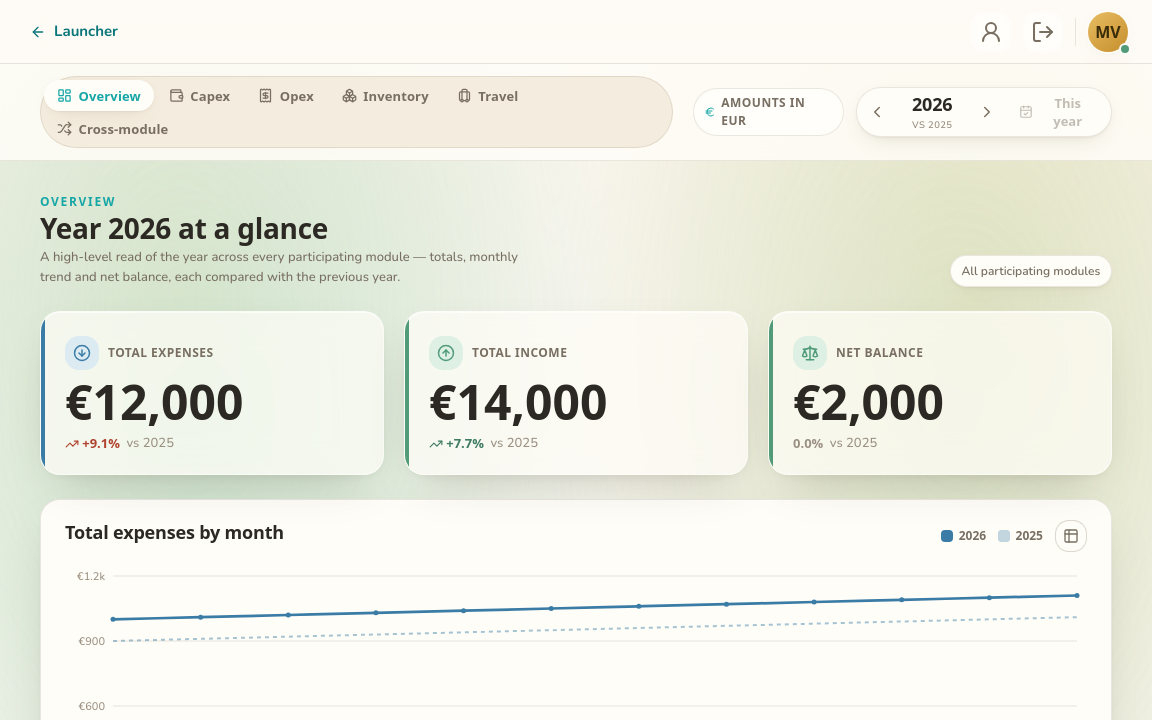
Test: Analytics shell › navigates years through the URL and refetches
This screenshot has width=1152, height=720.
Expected: the button "This year" is disabled, [1008,95,1108,129]
Click the button named "Previous year": (877, 112) [860,95,894,129]
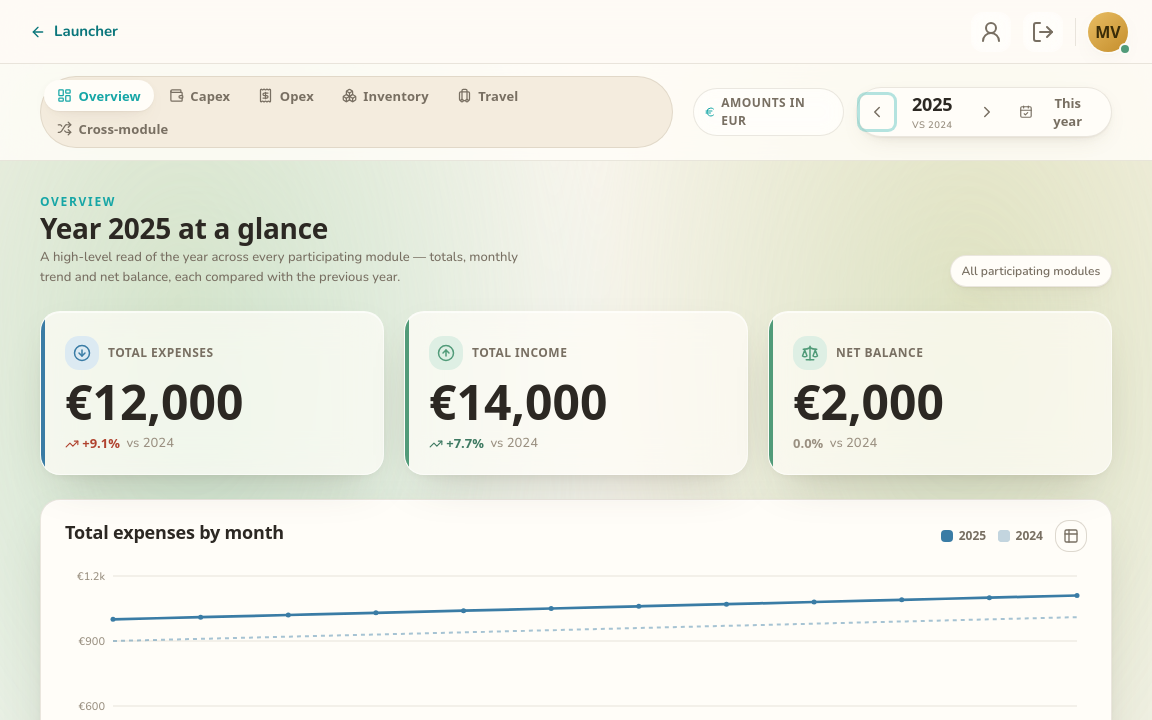
Expected: the button "This year" is enabled, [1008,95,1108,129]
